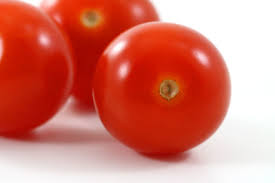tomato: (101, 29, 224, 149)
